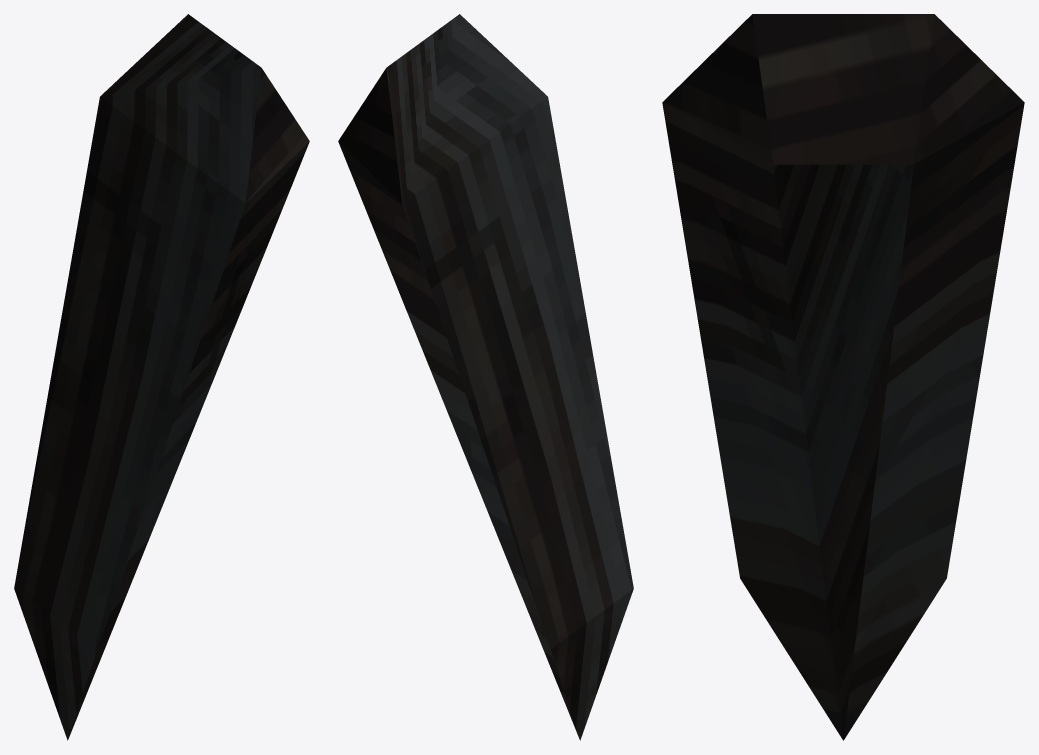
The model's file is ennemi_arm_v1.fbx.
3 views of the same model, side by side, from view 1: azimuth 30°, elevation 25°; view 2: azimuth 150°, elevation 25°; view 3: azimuth 270°, elevation 25° (orthographic). The views are drawn at different scales.
Visible parts, largest first — view 1: Cylinder.001; view 2: Cylinder.001; view 3: Cylinder.001.
Boxes of the visible parts, bbox=[...] form: Cylinder.001: bbox=[14, 14, 309, 740]; Cylinder.001: bbox=[338, 14, 633, 740]; Cylinder.001: bbox=[662, 14, 1024, 740].
Size of the model in its own units: 76.68 by 85.77 by 215.
